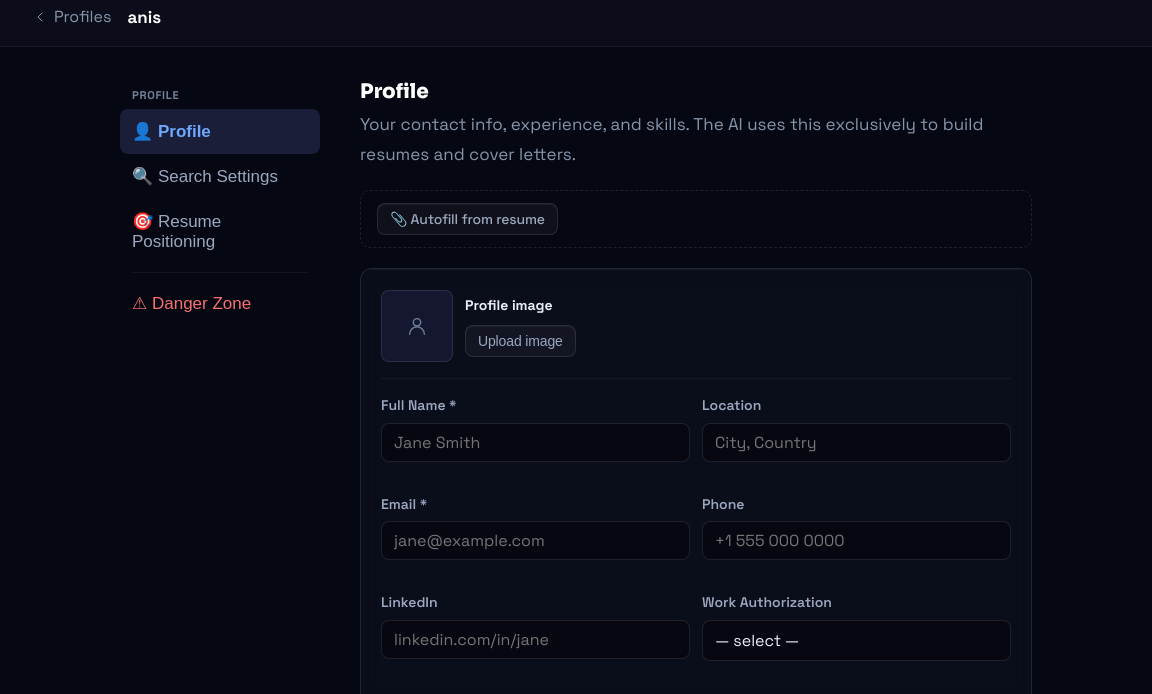
Scenario: Resume Positioning › caps additional instructions at 500 characters in the form
Click the button "🎯 Resume Positioning" at (220, 231), box [120,199,320,264]
(page scrolled)
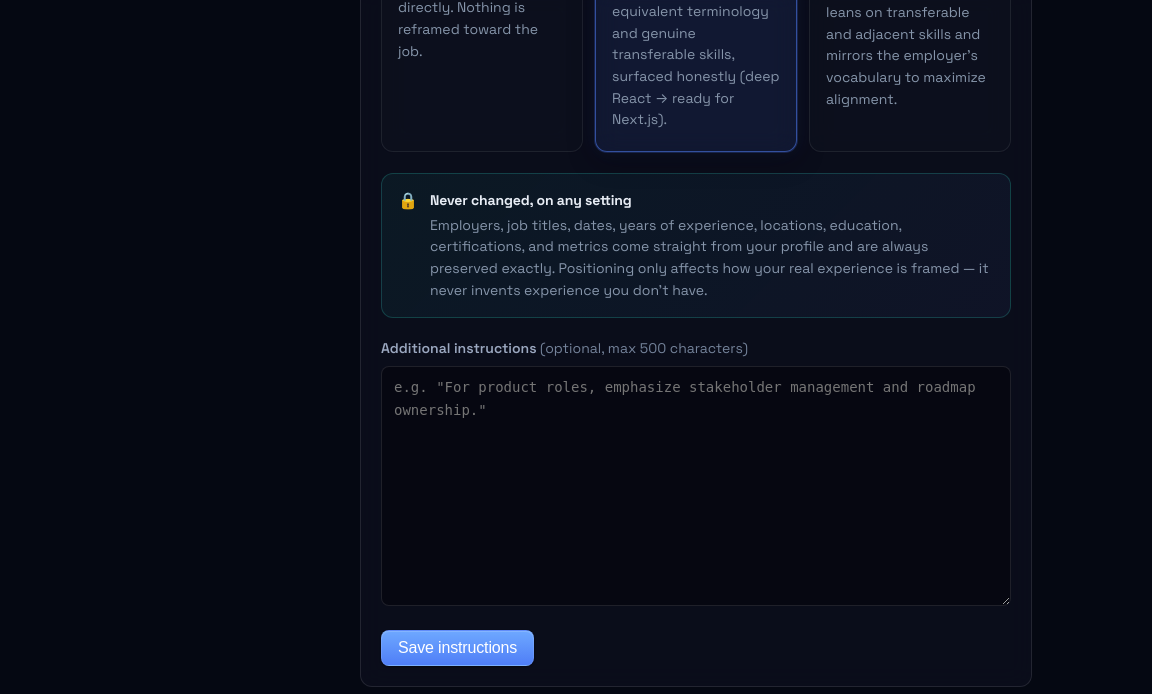
Now the text "(optional, max 500 characters)" is shown, box [540,339,748,357]
